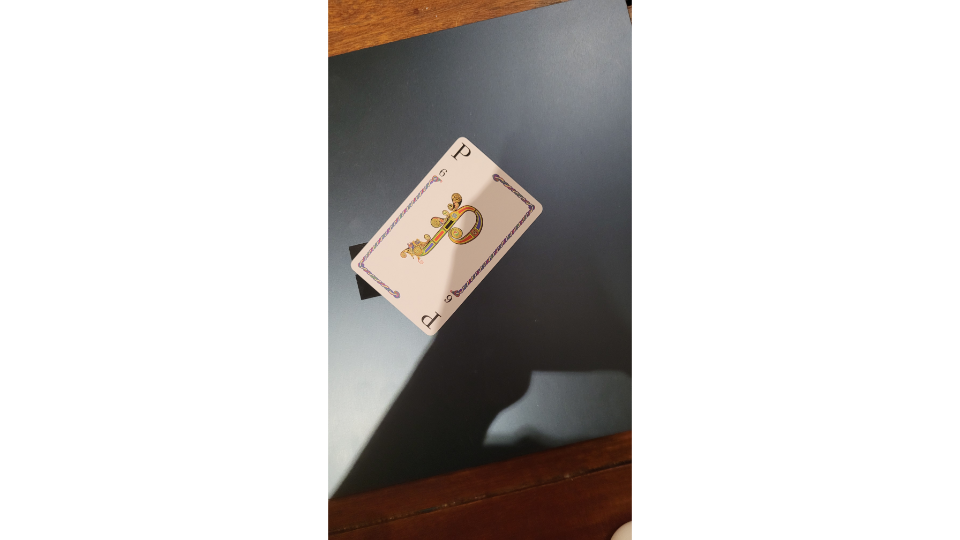P: (349, 134, 546, 340)
